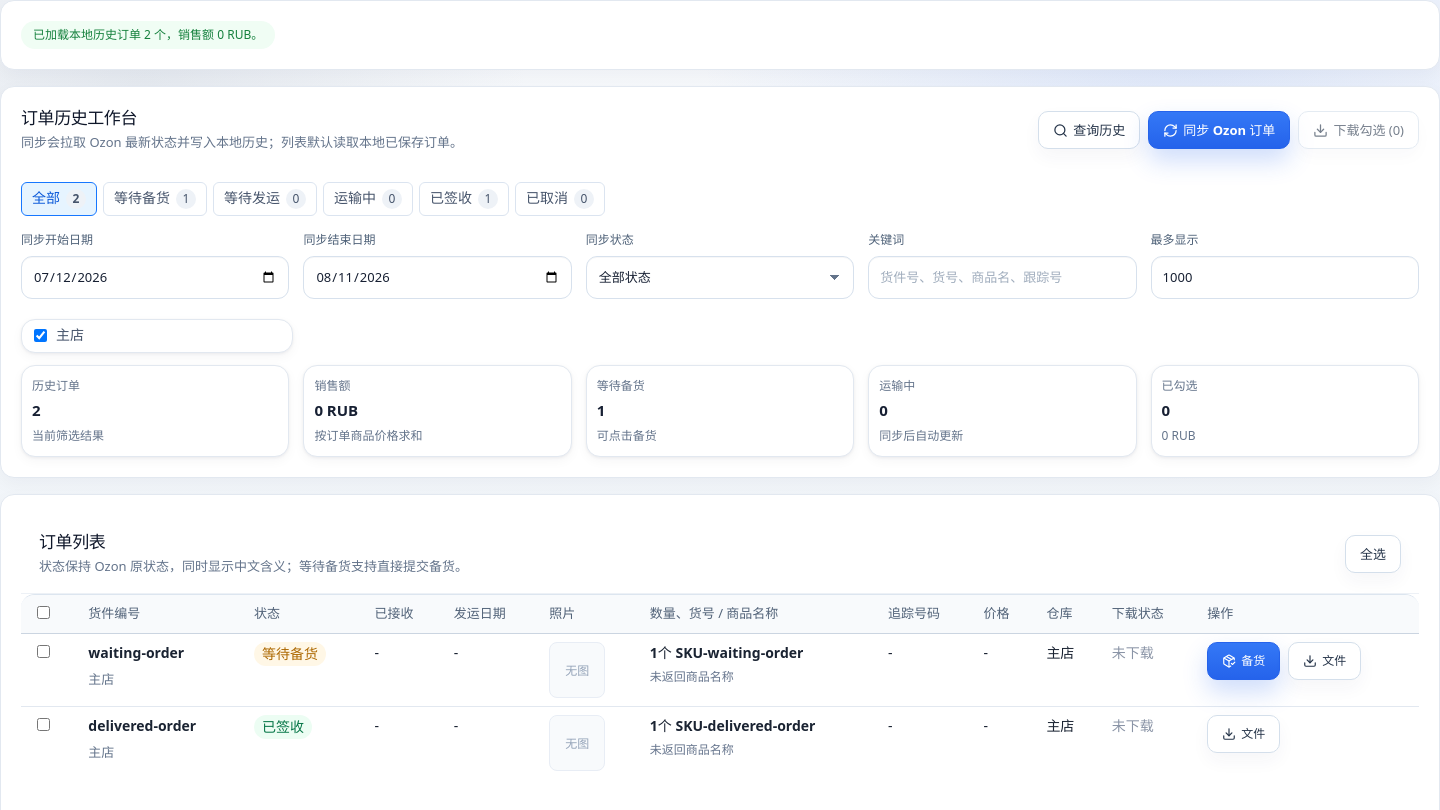
it: OrdersPage › loads all statuses after switching from awaiting packaging to all
Expected: the text "delivered-order" is shown, [88,716,196,735]
Click the button "等待备货 1". click: point(155, 199)
box: [103,182,207,216]
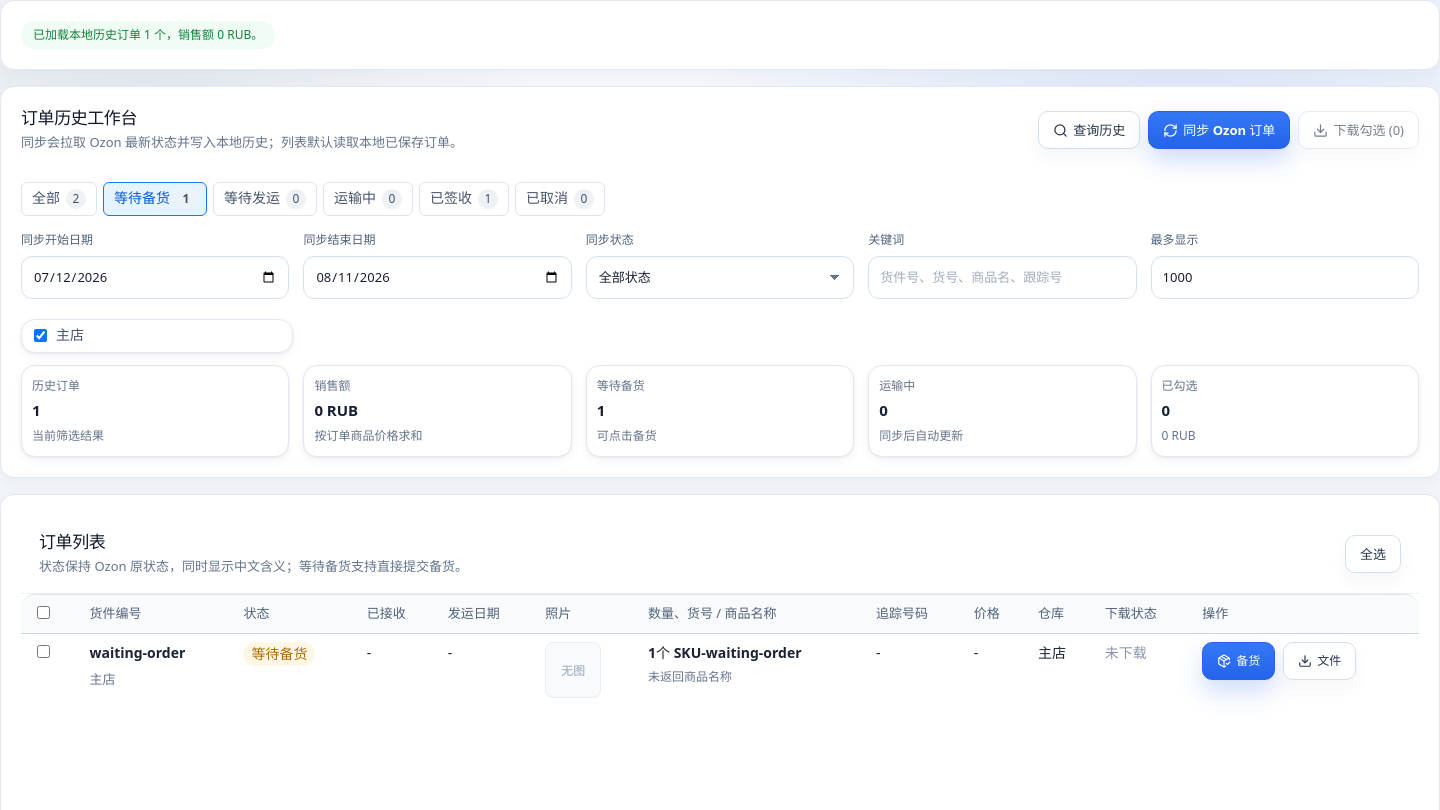
Result: the text "delivered-order" is gone
Click the button "全部 2". click: point(59, 199)
box: [21,182,97,216]
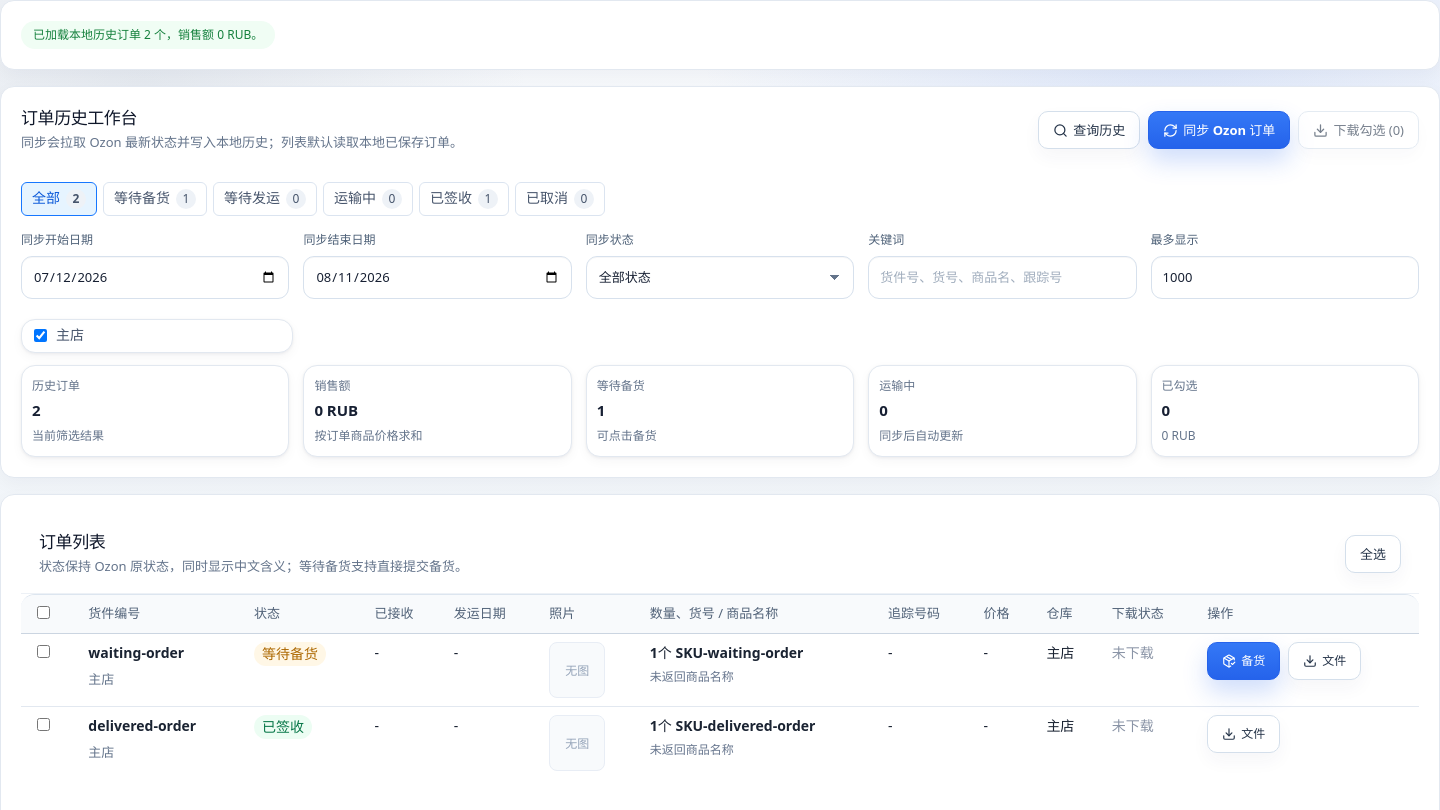
Result: the text "delivered-order" is shown at [88,716,196,735]
